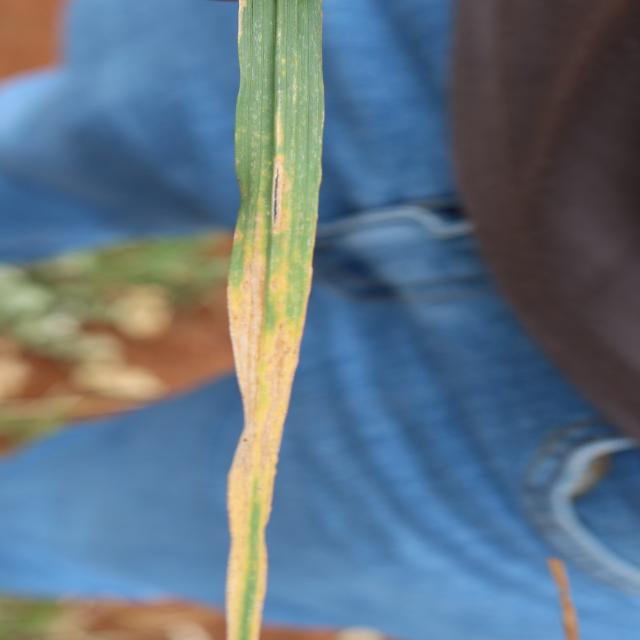Septoria: (221, 0, 326, 639)
